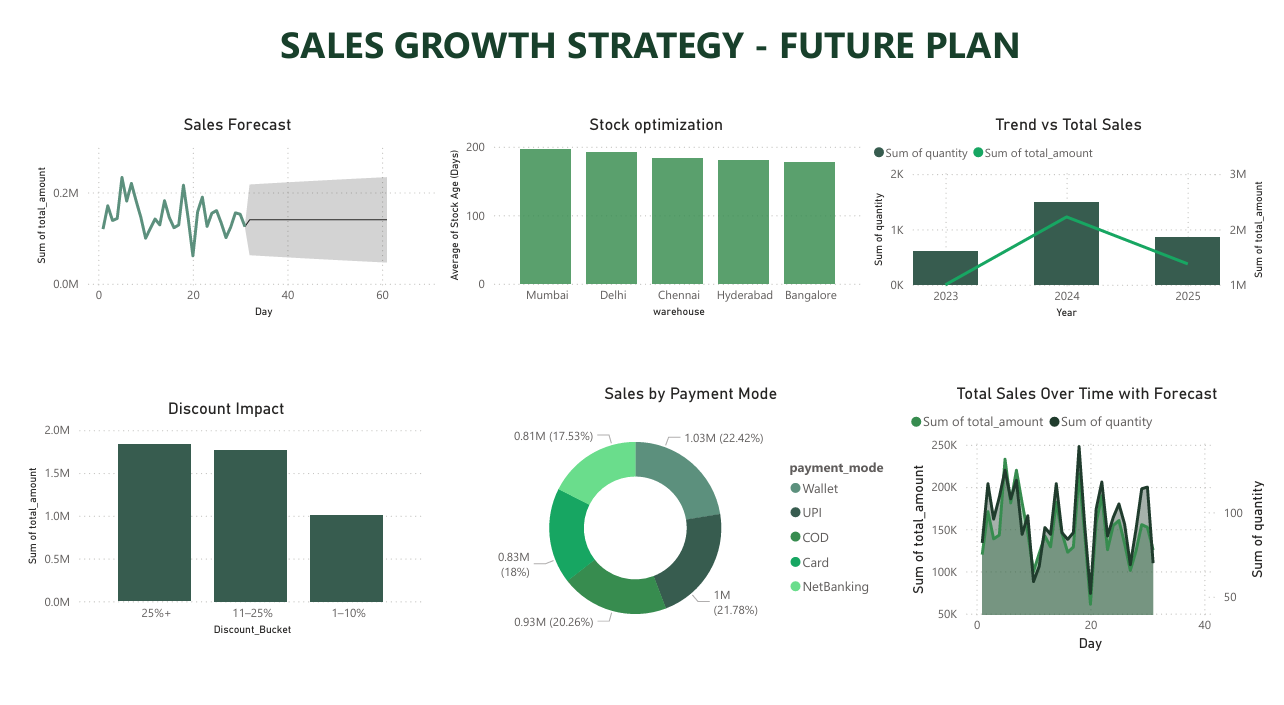

Layout of this report page (visuals, bound fields, positions):
{"tool":"powerbi","page":{"name":"Page 6","canvas":[1280,720],"ordinal":5},"visuals":[{"type":"textbox","box":[9.6,0,1270.8,72.7],"z":0},{"type":"lineChart","title":"Sales Forecast","fields":{"Y":["Sum(transactions.total_amount)"],"Category":["transactions.purchase_date.Variation.Date Hierarchy.Day"]},"box":[9.1,103,424,213.5],"z":1000},{"type":"columnChart","title":"Discount Impact","fields":{"Category":["transactions.Discount_Bucket"],"Y":["Sum(transactions.total_amount)"]},"box":[0,393.7,419.4,248.3],"z":2000},{"type":"donutChart","title":"Sales by Payment Mode","fields":{"Category":["transactions.payment_mode"],"Y":["Sum(transactions.total_amount)"]},"box":[466.4,378.6,440.6,278.6],"z":3000},{"type":"columnChart","title":"Stock optimization","fields":{"Category":["inventory.warehouse"],"Y":["Avg(inventory.Stock Age (Days))"]},"box":[433.1,103,436.1,213.5],"z":4000},{"type":"lineClusteredColumnComboChart","title":"Trend vs Total Sales ","fields":{"Category":["transactions.purchase_date.Variation.Date Hierarchy.Year","transactions.purchase_date.Variation.Date Hierarchy.Quarter","transactions.purchase_date.Variation.Date Hierarchy.Month","transactions.purchase_date.Variation.Date Hierarchy.Day"],"Y":["Sum(transactions.quantity)"],"Y2":["Sum(transactions.total_amount)"]},"box":[869,103,411,214],"z":5000},{"type":"areaChart","title":"Total Sales Over Time with Forecast ","fields":{"Y":["Sum(transactions.total_amount)"],"Y2":["Sum(transactions.quantity)"],"Category":["transactions.purchase_date.Variation.Date Hierarchy.Day"]},"box":[907,379,373,279],"z":6000}]}

Visuals, with their boxes in screenshot pixels (x1, y1, x2, y2), scaled from the page's 1280x720 canvas onto the 1284x705 screenshot:
textbox: {"left": 10, "top": 0, "right": 1283, "bottom": 71}
"Sales Forecast" lineChart: {"left": 9, "top": 101, "right": 434, "bottom": 310}
"Discount Impact" columnChart: {"left": 0, "top": 385, "right": 421, "bottom": 629}
"Sales by Payment Mode" donutChart: {"left": 468, "top": 371, "right": 910, "bottom": 644}
"Stock optimization" columnChart: {"left": 434, "top": 101, "right": 872, "bottom": 310}
"Trend vs Total Sales " lineClusteredColumnComboChart: {"left": 872, "top": 101, "right": 1283, "bottom": 310}
"Total Sales Over Time with Forecast " areaChart: {"left": 910, "top": 371, "right": 1283, "bottom": 644}
